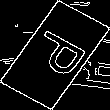P_SE: (19, 26, 91, 84)
